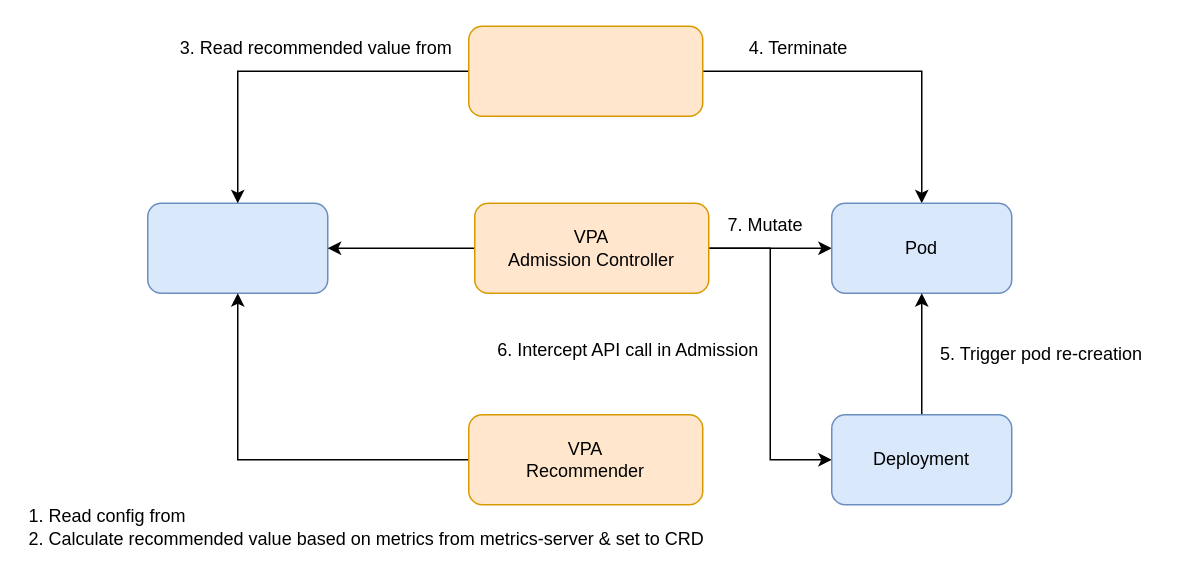
The diagram is 1187 pixels wide and 576 high, and some of its shapes have lost their labels. The shapes that lost their labels are listed below. From the top down, each one's centre as x and y in pixels, then its label:
the point at 585,70: VPA Updater
the point at 237,247: VPA CRD
